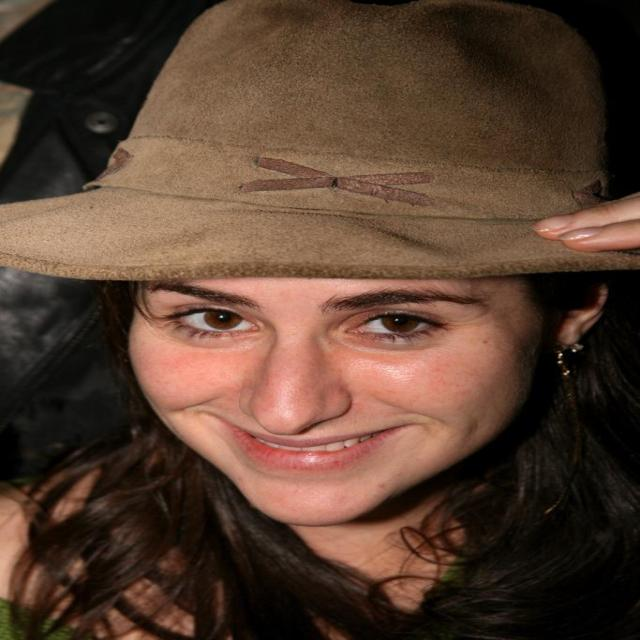Eyebags: (163, 320, 262, 358), (330, 329, 447, 360), (177, 334, 236, 350), (361, 340, 430, 349)
